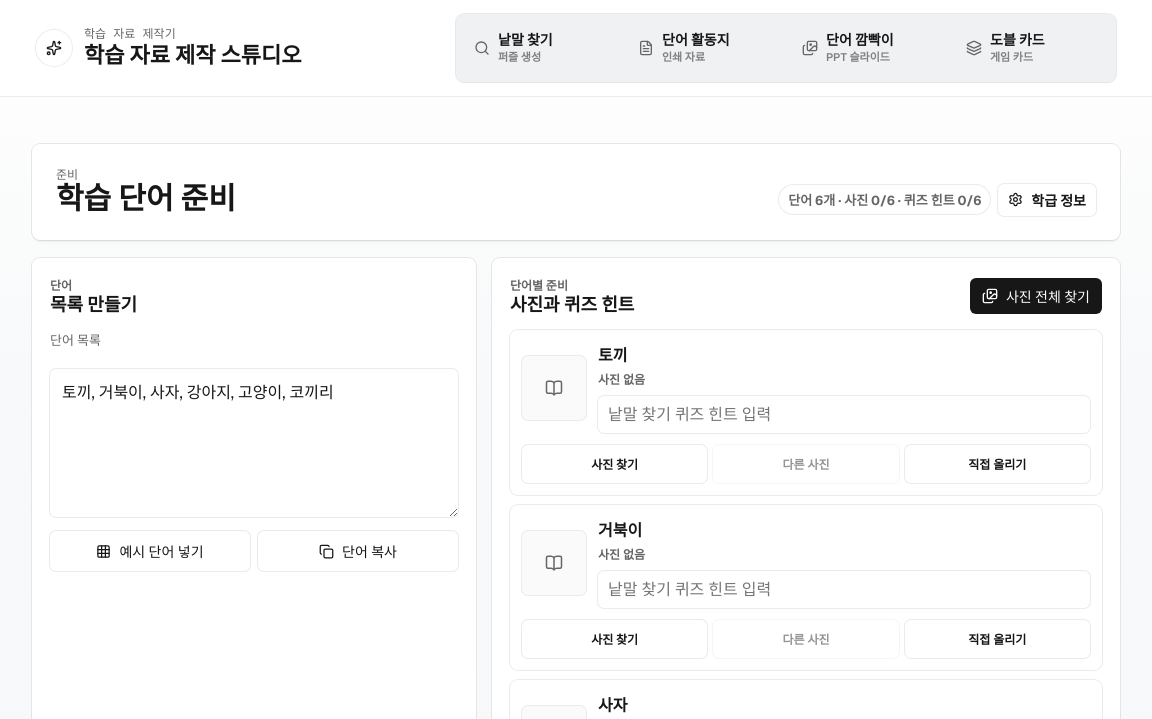
App › shows a separate word preparation home page at the root route
This screenshot has width=1152, height=719.
Check: the heading "학습 단어 준비" is shown, box [56, 182, 236, 216]
Replace the text in the text box labelled "단어 목록" with "apple, banana" at (254, 444), box [50, 370, 458, 518]
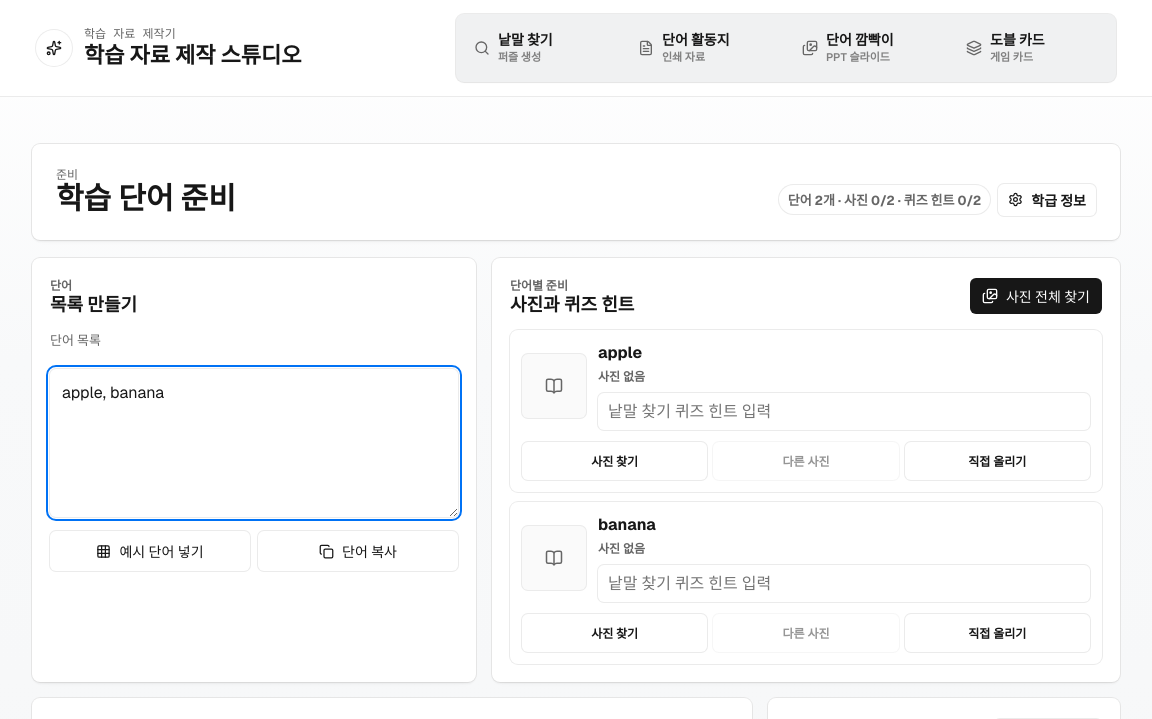
Type "red fruit" into the field named "apple 퀴즈 힌트" at (844, 412), box [598, 394, 1090, 430]
(page scrolled)
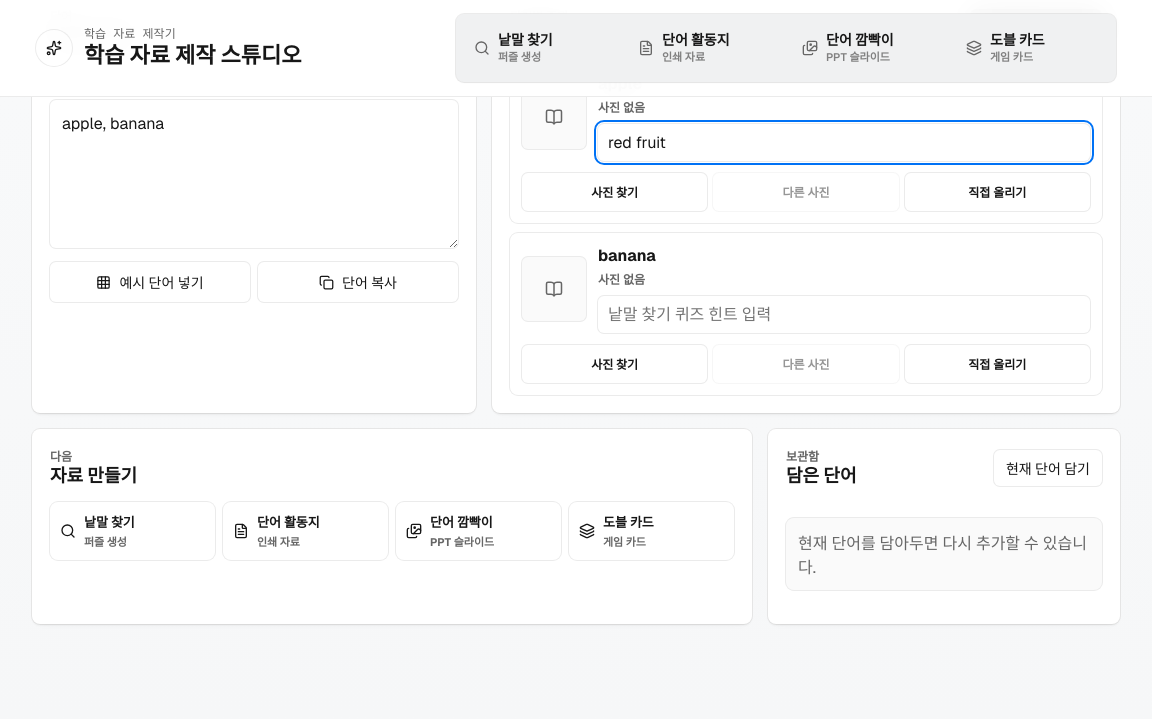
Click the button "현재 단어 담기" at (1048, 468), box [994, 450, 1102, 486]
(page scrolled)
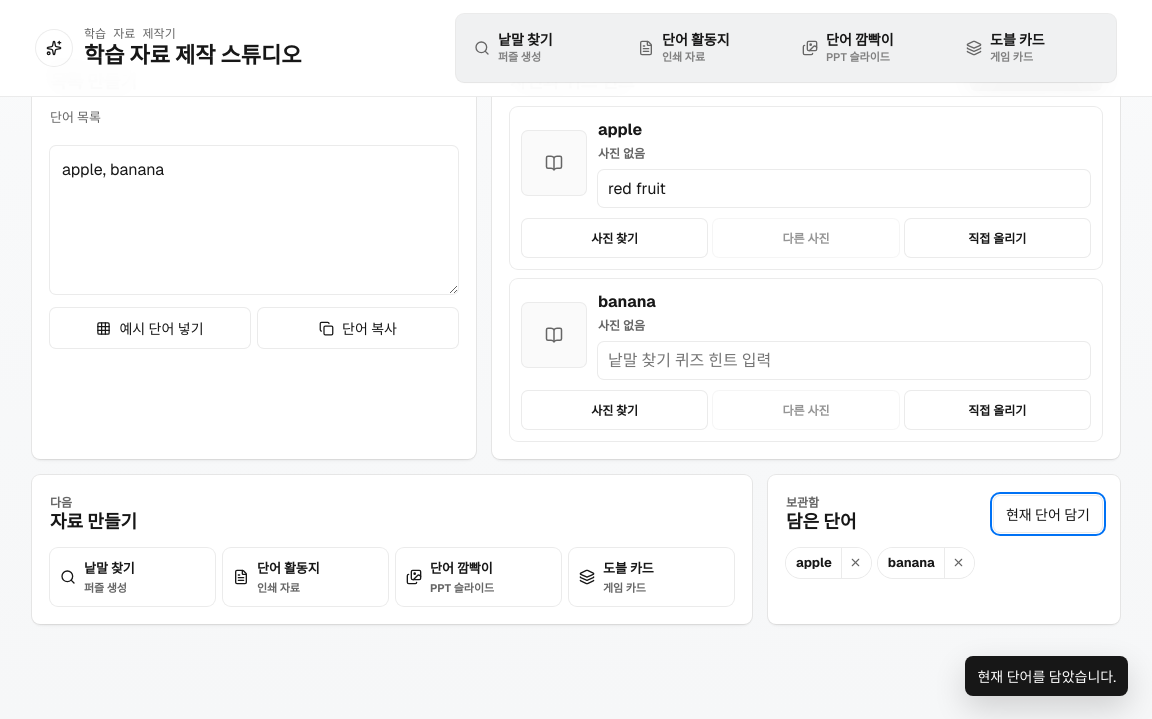
Check: the button with aria-label "apple 추가" is shown, box [786, 548, 841, 578]
Check: the button with aria-label "banana 추가" is shown, box [878, 548, 944, 578]
